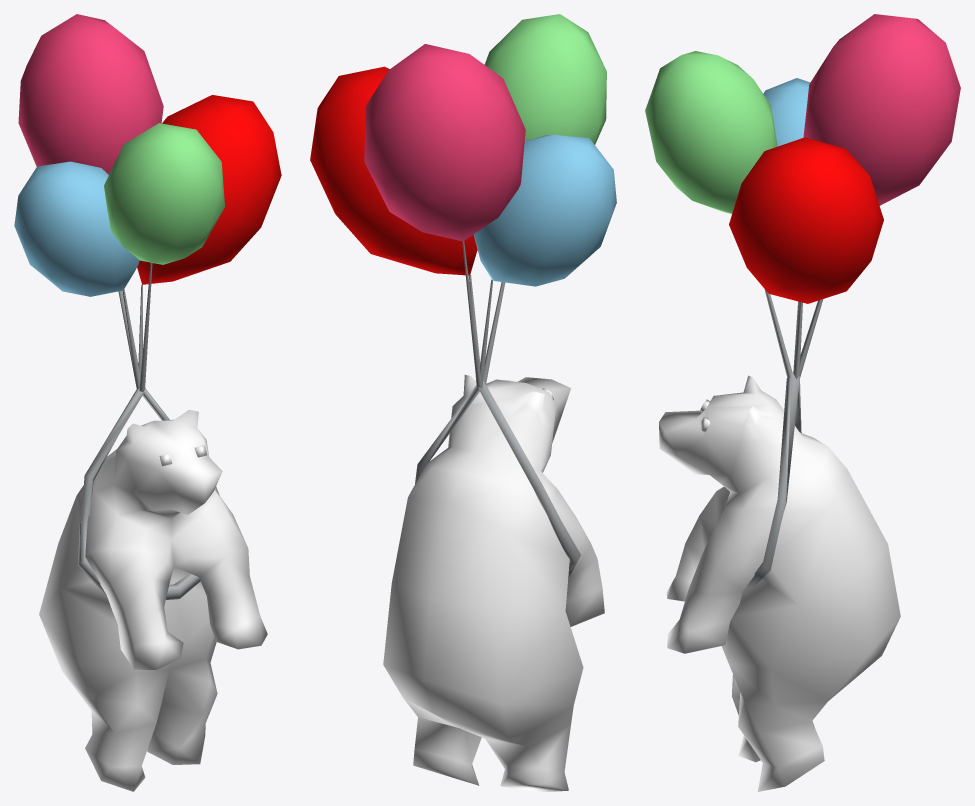
Rendered from bear_on_balloons.obj.
The picture shows the model from 3 angles, left to right: view 1: azimuth 30°, elevation 25°; view 2: azimuth 150°, elevation 25°; view 3: azimuth 270°, elevation 25°; orthographic projection. The views are drawn at different scales.
Parts seen in each view (by area): view 1: Icosphere.002_color, Icosphere.002_Material.004, Icosphere.002_Material.002, Icosphere.002_Material.003, Icosphere.002_Material.001, Icosphere.002_Material; view 2: Icosphere.002_color, Icosphere.002_Material.004, Icosphere.002_Material.003, Icosphere.002_Material.001, Icosphere.002_Material.002, Icosphere.002_Material; view 3: Icosphere.002_color, Icosphere.002_Material.004, Icosphere.002_Material.001, Icosphere.002_Material.002, Icosphere.002_Material, Icosphere.002_Material.003.
Part boxes in pixels (left/top/right/bottom): Icosphere.002_color: left=39, top=410, right=267, bottom=791; Icosphere.002_Material.004: left=18, top=14, right=163, bottom=174; Icosphere.002_Material.002: left=104, top=123, right=224, bottom=264; Icosphere.002_Material.003: left=14, top=161, right=139, bottom=296; Icosphere.002_Material.001: left=137, top=95, right=281, bottom=284; Icosphere.002_Material: left=78, top=262, right=219, bottom=599; Icosphere.002_color: left=383, top=375, right=604, bottom=791; Icosphere.002_Material.004: left=364, top=44, right=525, bottom=241; Icosphere.002_Material.003: left=473, top=135, right=616, bottom=286; Icosphere.002_Material.001: left=310, top=66, right=477, bottom=275; Icosphere.002_Material.002: left=484, top=14, right=606, bottom=144; Icosphere.002_Material: left=415, top=241, right=580, bottom=579; Icosphere.002_color: left=659, top=375, right=900, bottom=791; Icosphere.002_Material.004: left=803, top=14, right=960, bottom=205; Icosphere.002_Material.001: left=729, top=137, right=883, bottom=303; Icosphere.002_Material.002: left=645, top=51, right=777, bottom=213; Icosphere.002_Material: left=747, top=289, right=823, bottom=587; Icosphere.002_Material.003: left=763, top=78, right=810, bottom=146.
Bounding box in the file's own units: 2.04 × 5.44 × 2.08.
6 materials, 6 textured.
